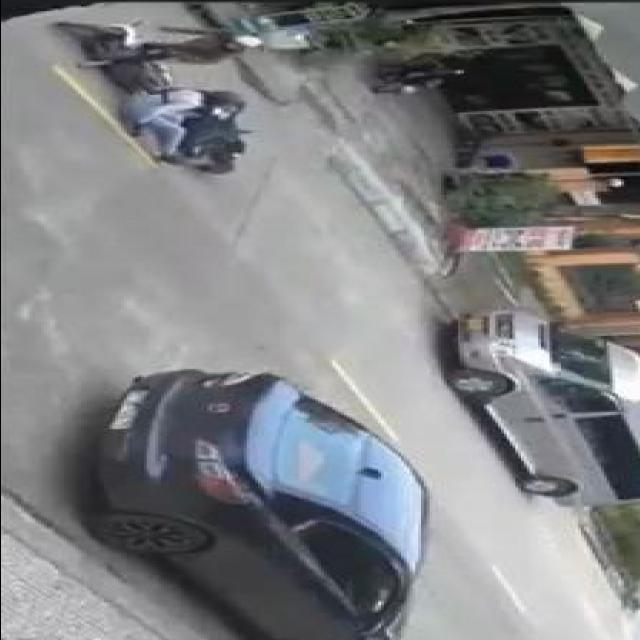accident: (44, 16, 284, 179)
